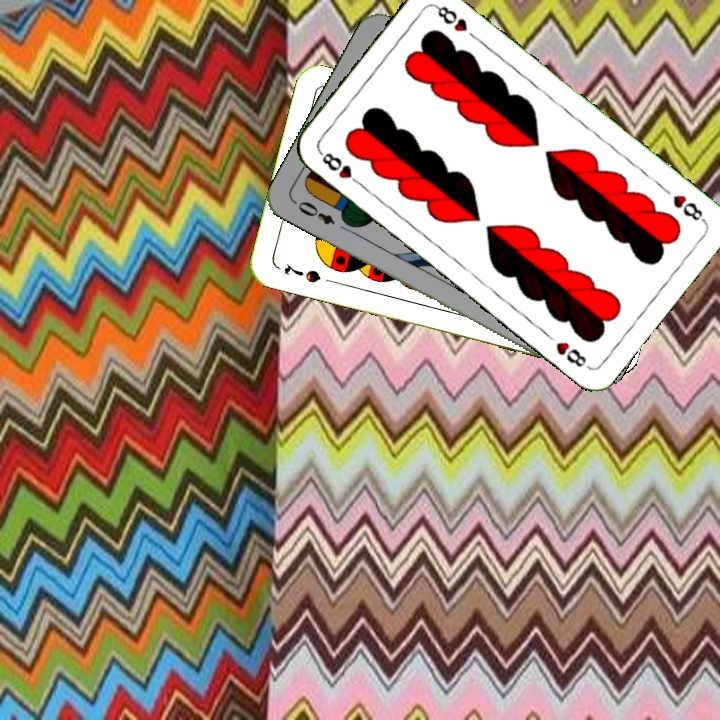EO: (289, 197, 338, 228)
H8: (315, 147, 365, 189), (668, 190, 708, 225)
S7: (280, 259, 324, 286)
